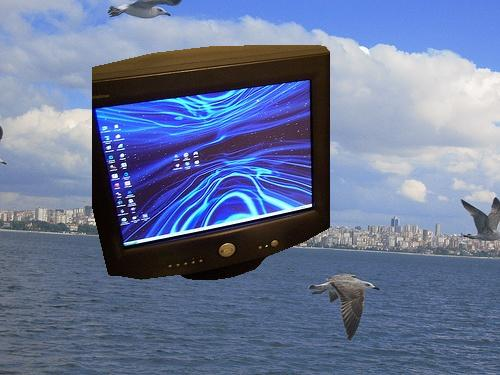tampered: (93, 46, 330, 280)
